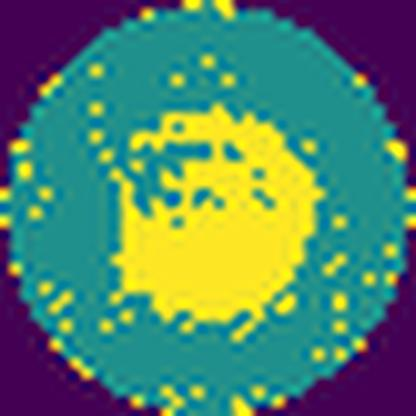Center: (114, 108, 319, 326)
